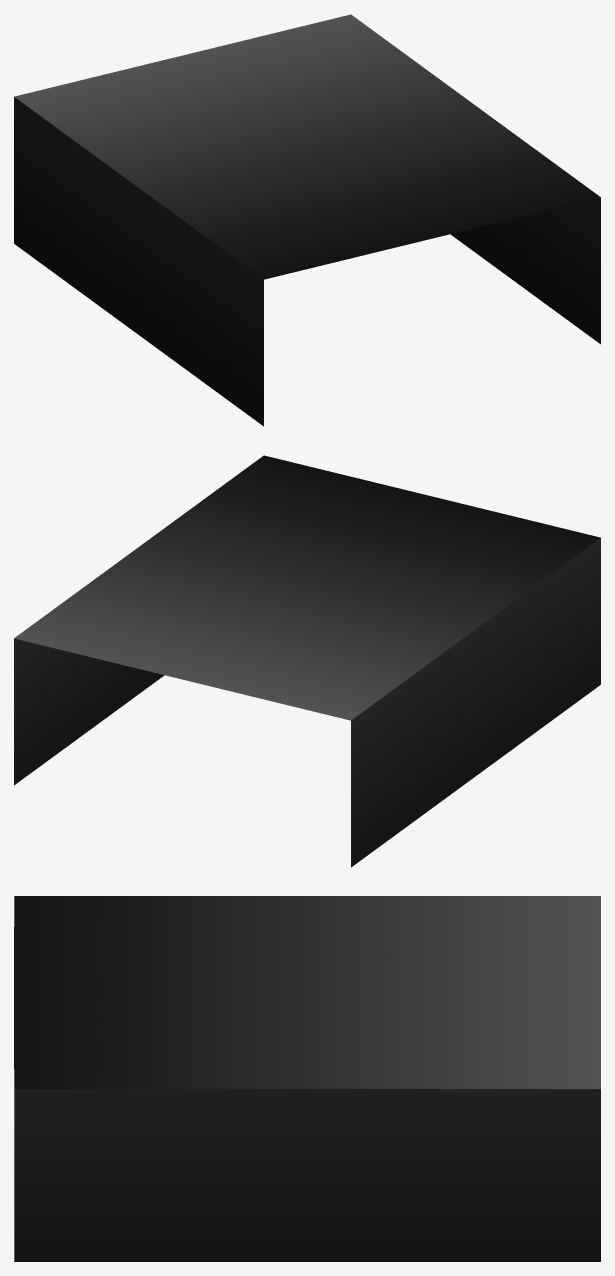
Rendered from tunel nivel 3.fbx.
The picture shows the model from 3 angles, top to bottom: view 1: azimuth 30°, elevation 25°; view 2: azimuth 150°, elevation 25°; view 3: azimuth 270°, elevation 25°; orthographic projection. The views are drawn at different scales.
Visible parts, largest first — view 1: Cube.003; view 2: Cube.003; view 3: Cube.003.
Boxes of the visible parts, <box> form: Cube.003: <box>14,14,600,426</box>; Cube.003: <box>14,455,600,867</box>; Cube.003: <box>14,896,600,1261</box>.
Bounding box in the file's own units: 1201 × 501 × 1542.
Materials: 1 (1 with a texture image).
